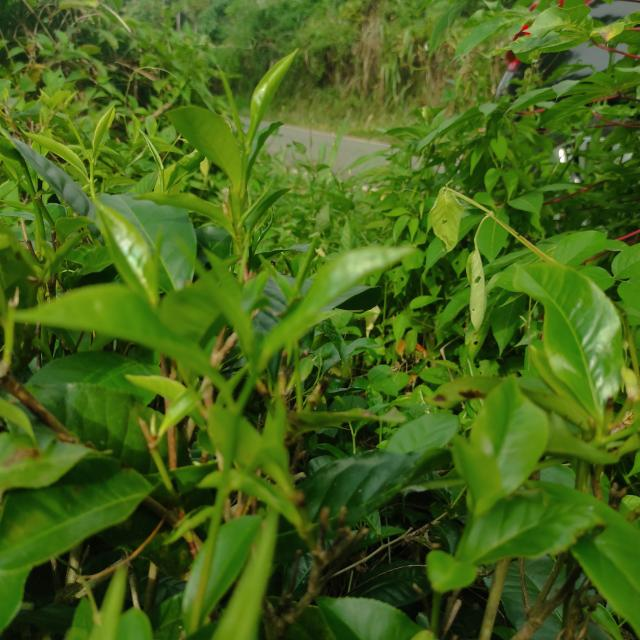unopened_leaf: (162, 228, 264, 364), (210, 52, 254, 156), (287, 222, 330, 300), (55, 102, 93, 164), (129, 121, 168, 179)
